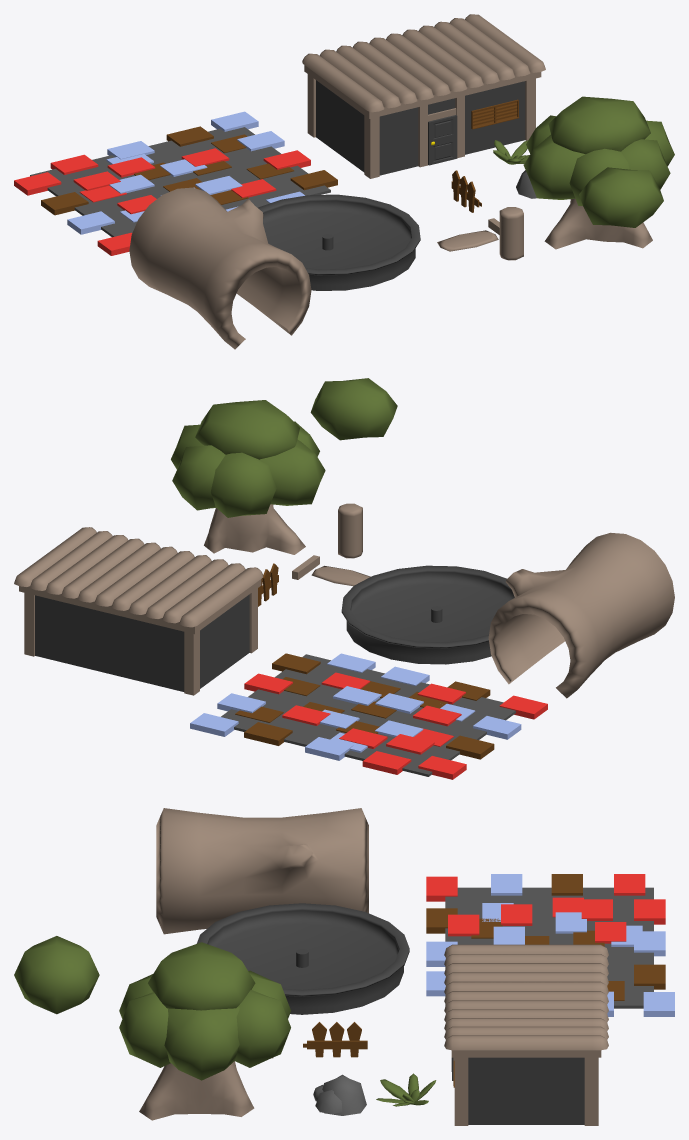
The model's file is pack.glb.
The picture shows the model from 3 angles, top to bottom: view 1: azimuth 30°, elevation 25°; view 2: azimuth 150°, elevation 25°; view 3: azimuth 270°, elevation 25°; orthographic projection. The views are drawn at different scales.
Parts seen in each view (by area): view 1: Sml_House1, BrickWalk, pPipe1, Tree, pCylinder1, Tree_Link, Door1, Bridge_pt_3, Bridge_pt_1_FREE, Fence_Wood, Tall_Grass; view 2: Sml_House1, BrickWalk, pPipe1, Tree, pCylinder1, Tree_Link, Bridge_pt_3, Bridge_pt_1_FREE; view 3: Sml_House1, pPipe1, Tree, BrickWalk, pCylinder1, Tree_Link, Sml_Rock, Fence_Wood, Tall_Grass.
Part boxes in pixels (x1,y1,x2,y2): Sml_House1: (302, 14, 545, 178); BrickWalk: (14, 111, 337, 255); pPipe1: (129, 187, 311, 349); Tree: (523, 96, 674, 249); pCylinder1: (258, 194, 420, 290); Tree_Link: (579, 167, 663, 227); Door1: (428, 115, 457, 165); Bridge_pt_3: (499, 207, 523, 260); Bridge_pt_1_FREE: (437, 230, 498, 251); Fence_Wood: (451, 170, 481, 212); Tall_Grass: (493, 140, 529, 164); Sml_House1: (14, 527, 263, 695); BrickWalk: (190, 653, 547, 779); pPipe1: (488, 532, 674, 698); Tree: (171, 400, 325, 554); pCylinder1: (341, 565, 514, 664); Tree_Link: (310, 378, 397, 440); Bridge_pt_3: (338, 503, 362, 558); Bridge_pt_1_FREE: (311, 565, 370, 586); Sml_House1: (444, 944, 608, 1125); pPipe1: (156, 808, 368, 934); Tree: (119, 942, 290, 1120); BrickWalk: (426, 874, 674, 1016); pCylinder1: (196, 903, 409, 1014); Tree_Link: (14, 936, 99, 1014); Sml_Rock: (313, 1074, 366, 1115); Fence_Wood: (303, 1022, 367, 1057); Tall_Grass: (376, 1073, 436, 1106).
Bounding box in the file's own units: 0.2471 × 0.071 × 0.2609.
